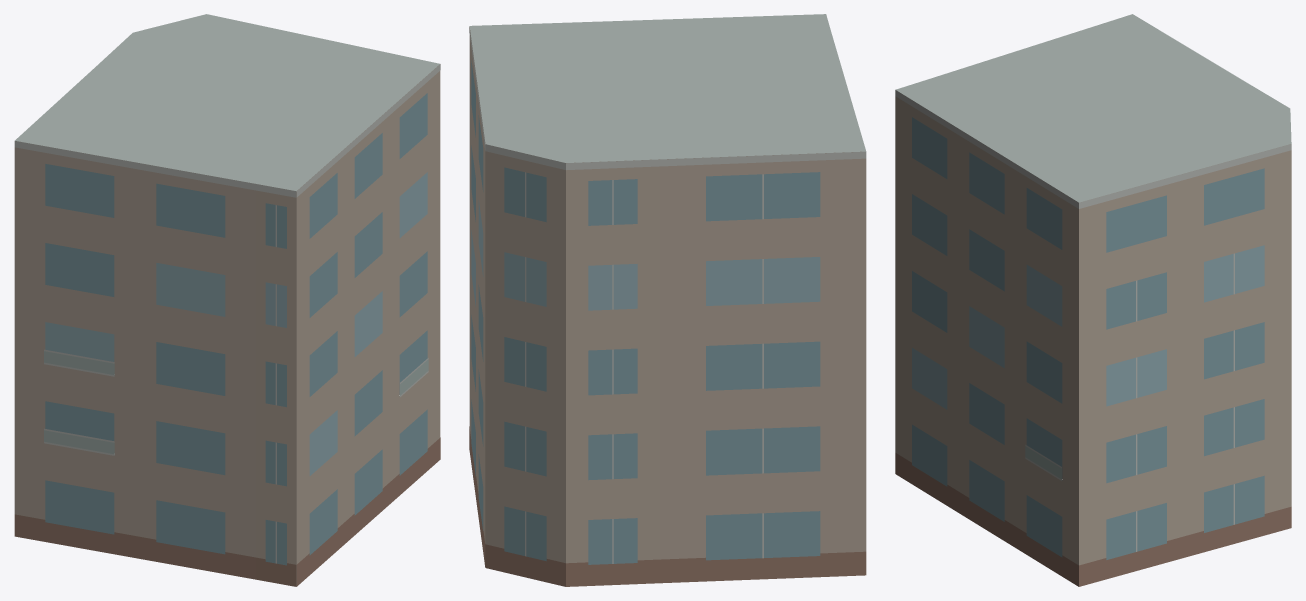
The model's file is survey-upis-33022000.glb.
3 renders of one model, left to right at view 1: azimuth 30°, elevation 25°; view 2: azimuth 150°, elevation 25°; view 3: azimuth 270°, elevation 25°, orthographic. The views are drawn at different scales.
Visible parts, largest first — view 1: survey-upis-33022000.tmp; view 2: survey-upis-33022000.tmp; view 3: survey-upis-33022000.tmp.
Part boxes in pixels (left/top/right/bottom): survey-upis-33022000.tmp: left=14, top=14, right=440, bottom=586; survey-upis-33022000.tmp: left=469, top=14, right=866, bottom=586; survey-upis-33022000.tmp: left=895, top=14, right=1291, bottom=586.
Size of the model in its own units: 15.38 by 14.6 by 13.65.
